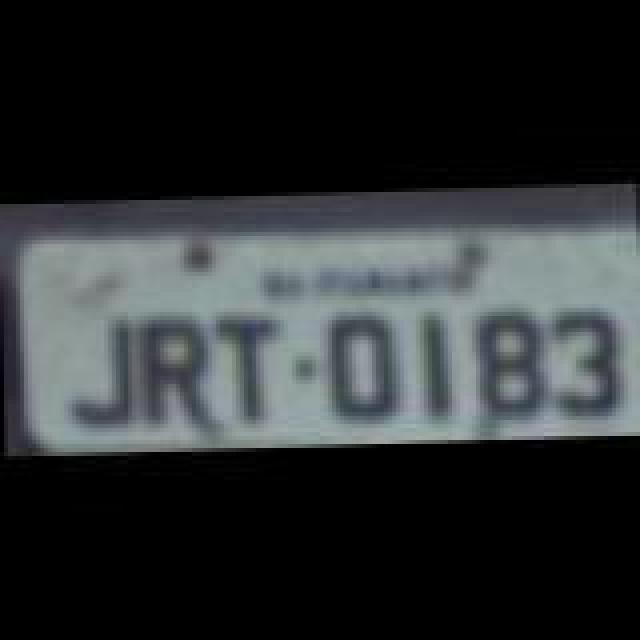1: (418, 310, 462, 426)
3: (536, 298, 624, 422)
8: (470, 302, 554, 418)
J: (54, 310, 138, 434)
O: (320, 310, 400, 426)
R: (138, 316, 214, 436)
T: (210, 308, 286, 428)
